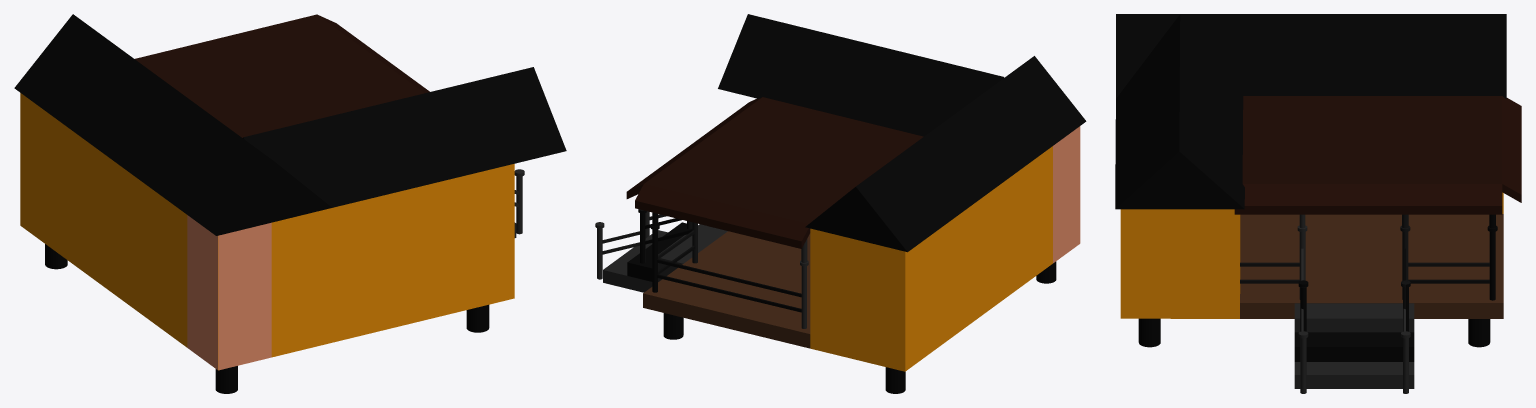
Rendered from BIGHOME.glb.
The picture shows the model from 3 angles, left to right: view 1: azimuth 30°, elevation 25°; view 2: azimuth 150°, elevation 25°; view 3: azimuth 270°, elevation 25°; orthographic projection. The views are drawn at different scales.
Visible parts, largest first — view 1: Cylinder.003; view 2: Cylinder.003; view 3: Cylinder.003.
Boxes of the visible parts, x1,y1,x2,y2 form: Cylinder.003: [14, 14, 566, 393]; Cylinder.003: [595, 14, 1086, 393]; Cylinder.003: [1115, 14, 1521, 393].
Bounding box in the file's own units: 7.55 × 4.15 × 6.8.
